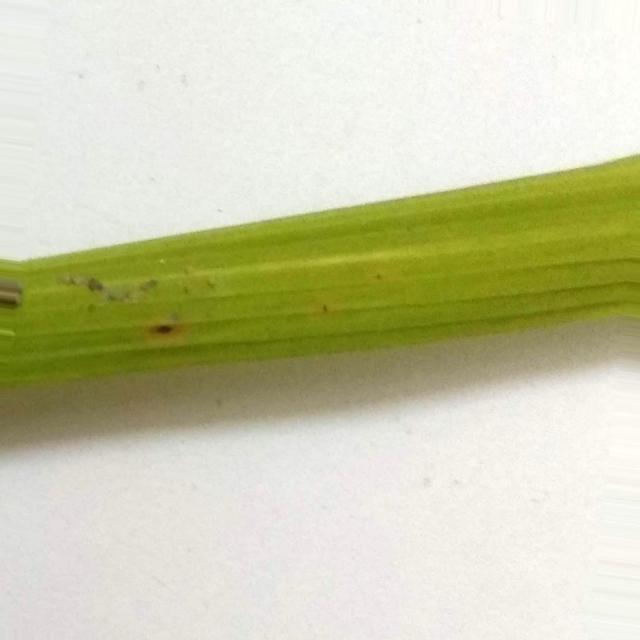Brown_Spot: (86, 278, 104, 291), (155, 325, 174, 334)
